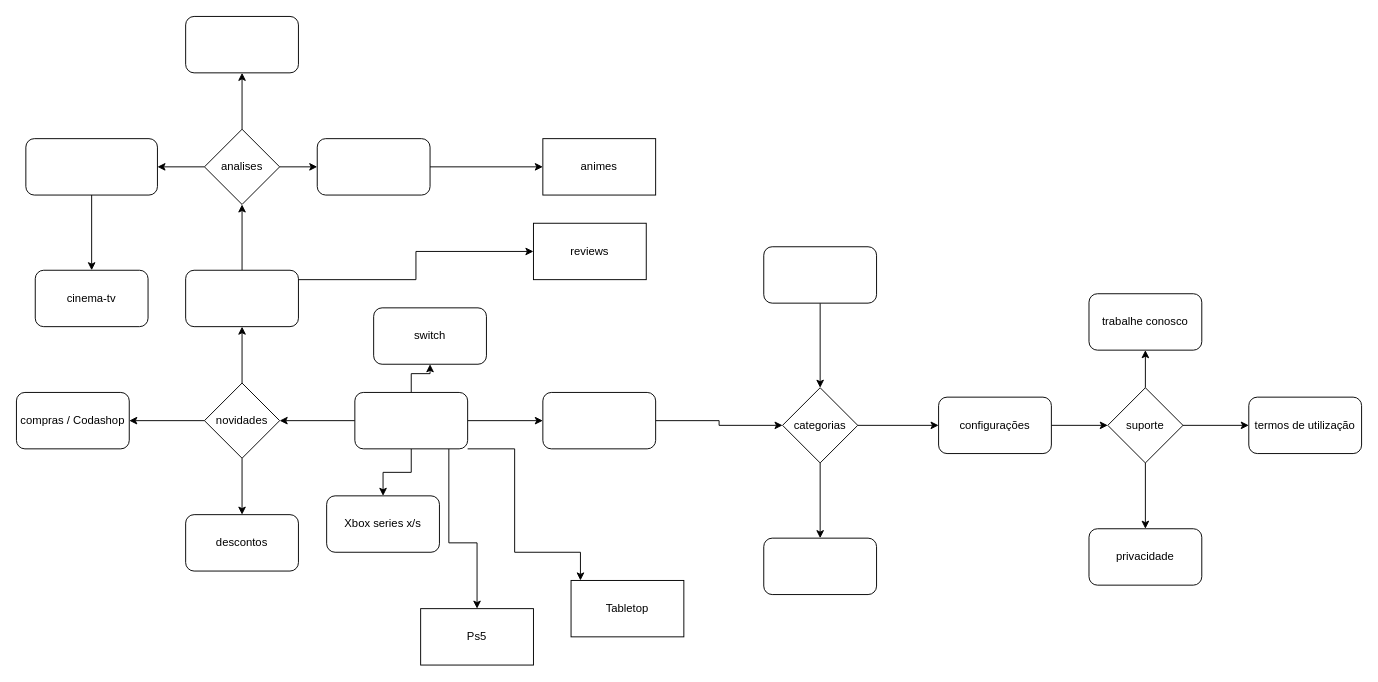
The diagram is 1378 pixels wide and 682 high, and some of its shapes have lost their labels. Each missing label, with the box of its shape:
filmes: (25, 138, 157, 195)
filtro por região: (763, 537, 877, 595)
informações novas diarias: (185, 269, 298, 327)
inicio do site: (763, 246, 877, 303)
jogos: (185, 16, 298, 73)
noticias / tech: (542, 392, 656, 449)
noticias de jogos e seres: (354, 392, 468, 449)
series: (316, 138, 430, 195)
